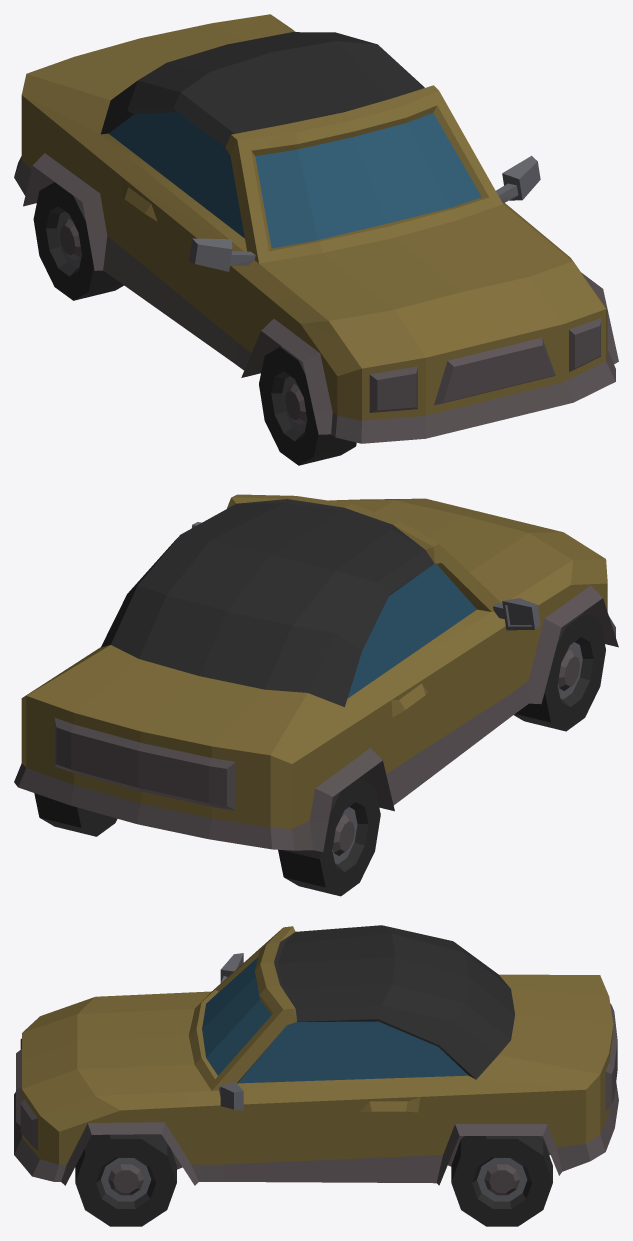
The model's file is LP_VehicleO.fbx.
The picture shows the model from 3 angles, top to bottom: view 1: azimuth 30°, elevation 25°; view 2: azimuth 150°, elevation 25°; view 3: azimuth 270°, elevation 25°; orthographic projection. The views are drawn at different scales.
Parts seen in each view (by area): view 1: VehicleO; view 2: VehicleO; view 3: VehicleO.
Boxes of the visible parts, x1=… form: VehicleO: x1=14, y1=14, x2=618, y2=465; VehicleO: x1=14, y1=494, x2=618, y2=896; VehicleO: x1=14, y1=925, x2=618, y2=1226.
Size of the model in its own units: 179 by 126 by 326.
